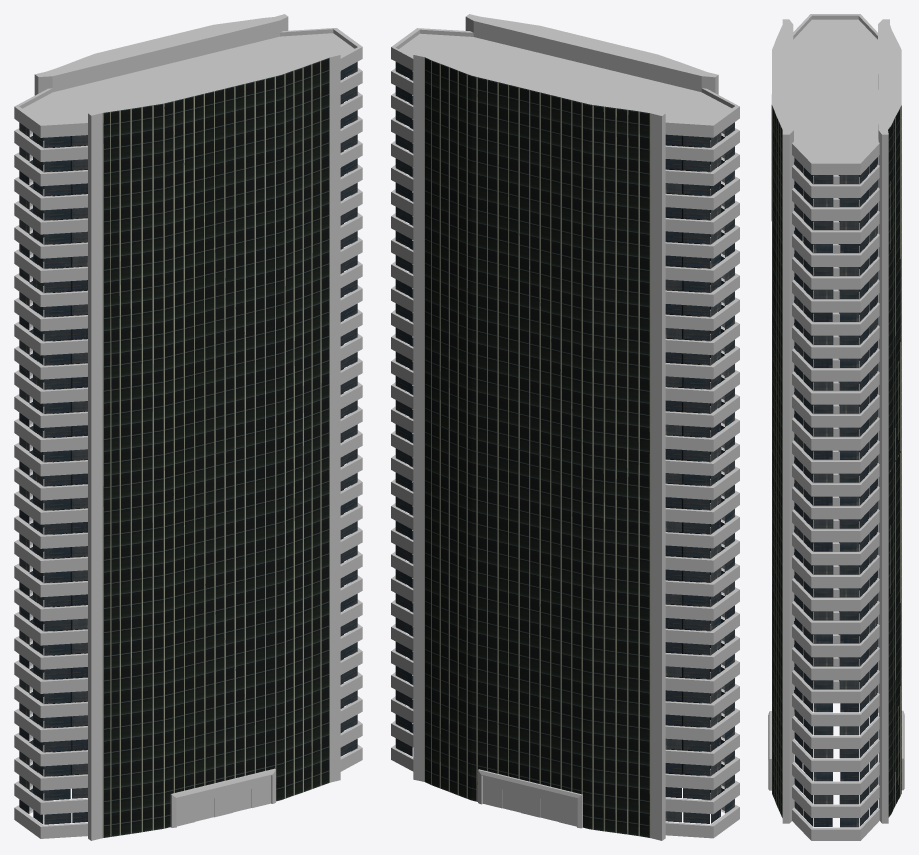
The picture shows the model from 3 angles, left to right: view 1: azimuth 30°, elevation 25°; view 2: azimuth 150°, elevation 25°; view 3: azimuth 270°, elevation 25°; orthographic projection. The views are drawn at different scales.
Parts seen in each view (by area): view 1: BC-082; view 2: BC-082; view 3: BC-082.
Part boxes in pixels (left/top/right/bottom): BC-082: left=14, top=14, right=362, bottom=840; BC-082: left=391, top=14, right=739, bottom=840; BC-082: left=768, top=14, right=904, bottom=840.
Size of what is drawn, in the model's own units: 46.14 by 99.15 by 17.79.
